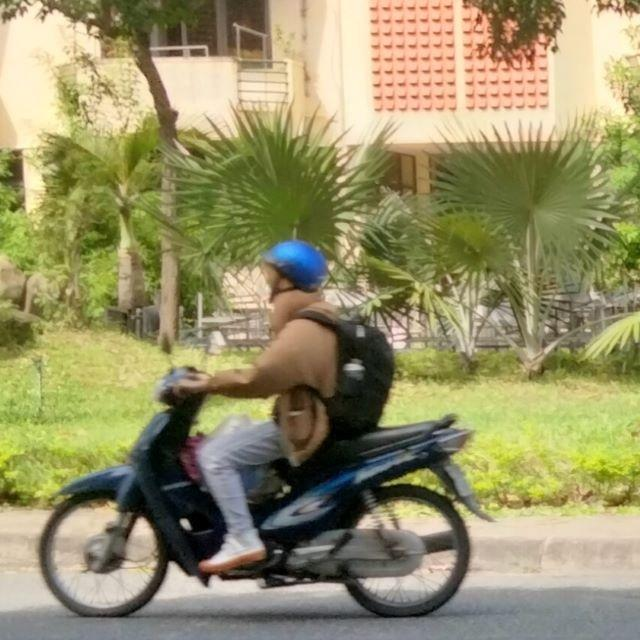Helmet: (260, 238, 330, 310)
